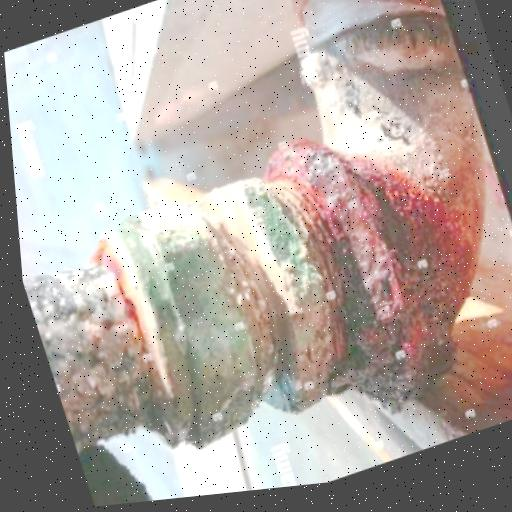corrosion: (248, 86, 512, 455)
